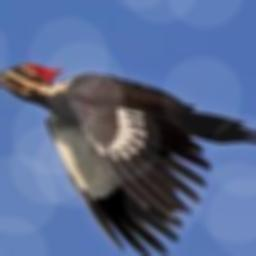Woodpecker: (0, 62, 256, 256)
